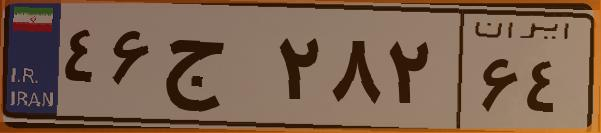2: (270, 28, 330, 110), (385, 28, 445, 110)
4: (57, 26, 110, 100), (525, 38, 570, 115)
6: (475, 38, 525, 113), (110, 28, 158, 98)
8: (330, 28, 385, 110)
ج: (158, 20, 270, 120)
